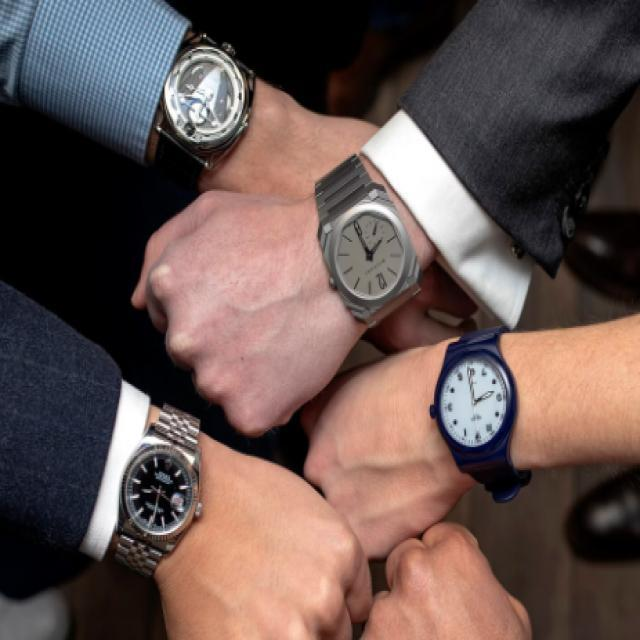Watch: (309, 158, 422, 327), (428, 314, 520, 500), (114, 401, 208, 577), (156, 32, 258, 160)
